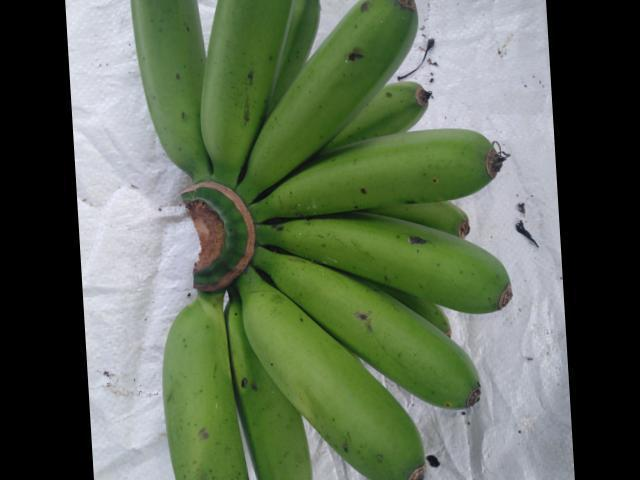unripe: (234, 284, 447, 478), (269, 245, 483, 416), (239, 3, 419, 201), (260, 203, 524, 315), (146, 285, 264, 479), (241, 129, 501, 217), (125, 1, 214, 217), (193, 0, 292, 178)
